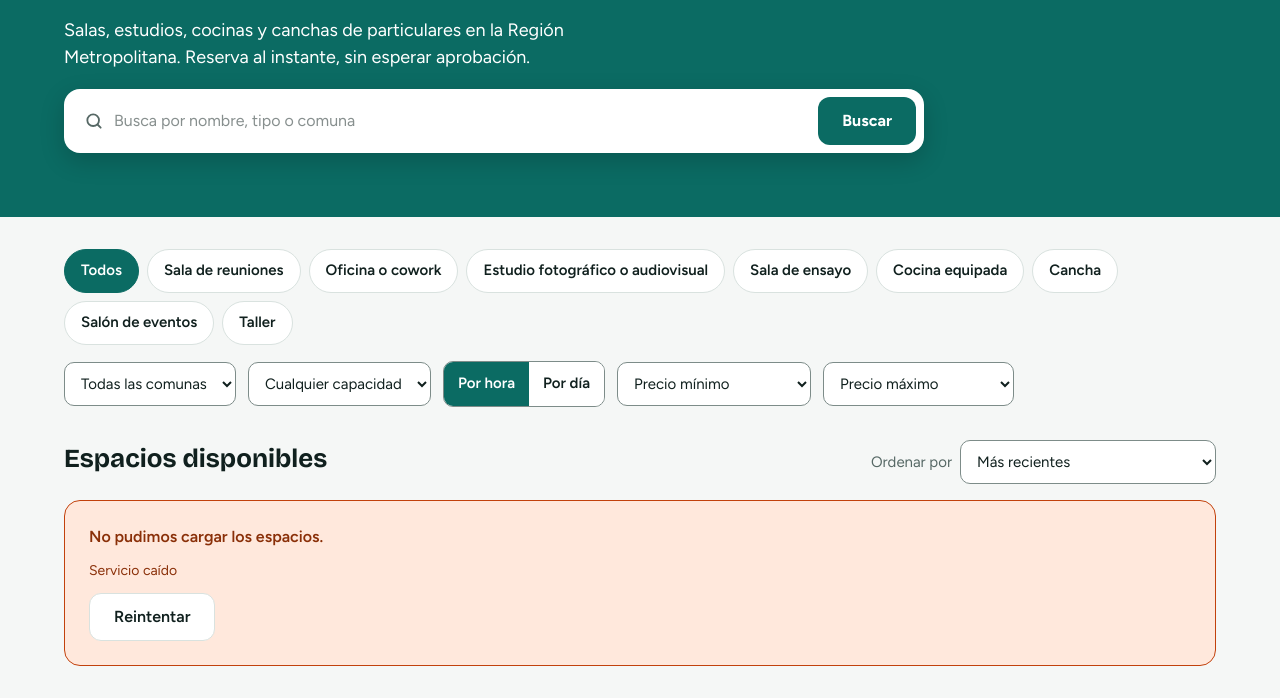
Scenario: CatalogPage › con un error muestra el mensaje y permite reintentar
This screenshot has width=1280, height=698.
(page scrolled)
Expected: the message shows "No pudimos cargar los espacios.", [89,527,323,546]
Expected: the message shows "Servicio caído", [89,562,177,579]
Click the button "Reintentar". click: (152, 617)
box: [89,593,216,641]
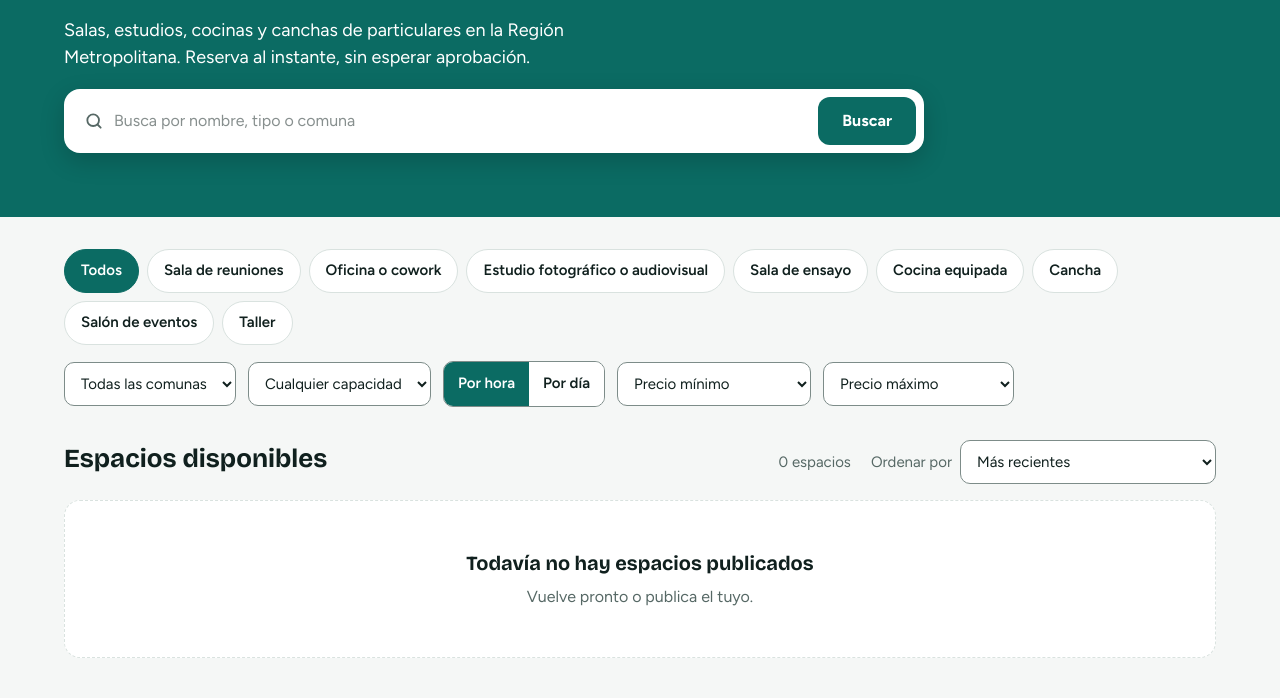
Expected: the heading "Todavía no hay espacios publicados" is shown, [466,551,814,575]
Expected: the message "No pudimos cargar los espacios. Servicio caído Reintentar" is gone
